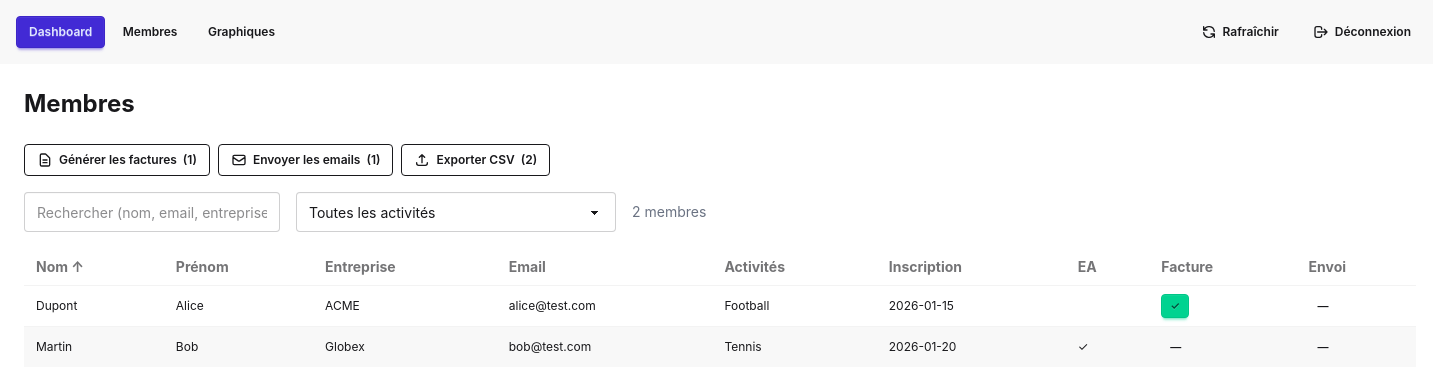
it: Members page - Invoice & Email features › shows invoice dropdown with preview when clicking ✓ badge
Expected: the text "Dupont" is shown, [24, 286, 164, 327]
What coordinates should you click on to do the following:
click the button "✓"
I would click on:
 (1175, 306)
Its box is [1161, 294, 1189, 318].
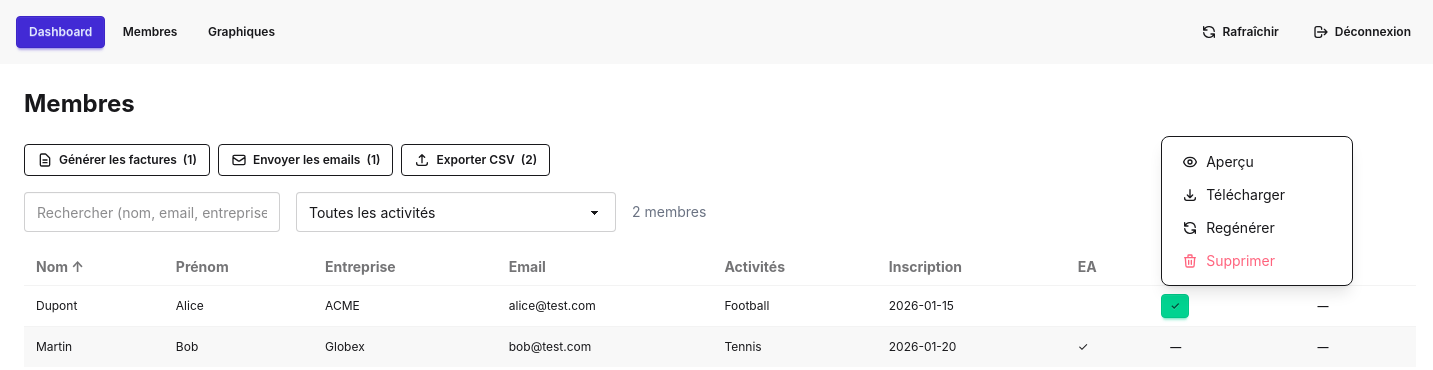
Now the button "Aperçu" is shown, box [1170, 145, 1344, 178]
Now the button "Télécharger" is shown, box [1170, 178, 1344, 211]
